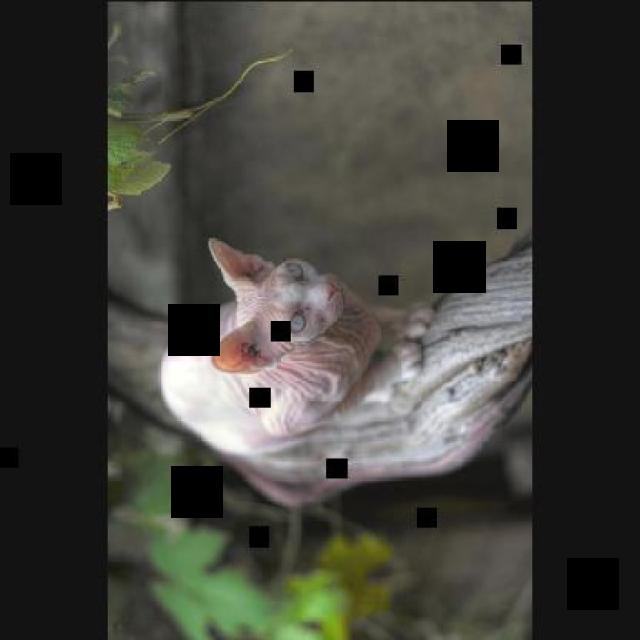unauthorized: (157, 230, 531, 508), (204, 236, 433, 438)
